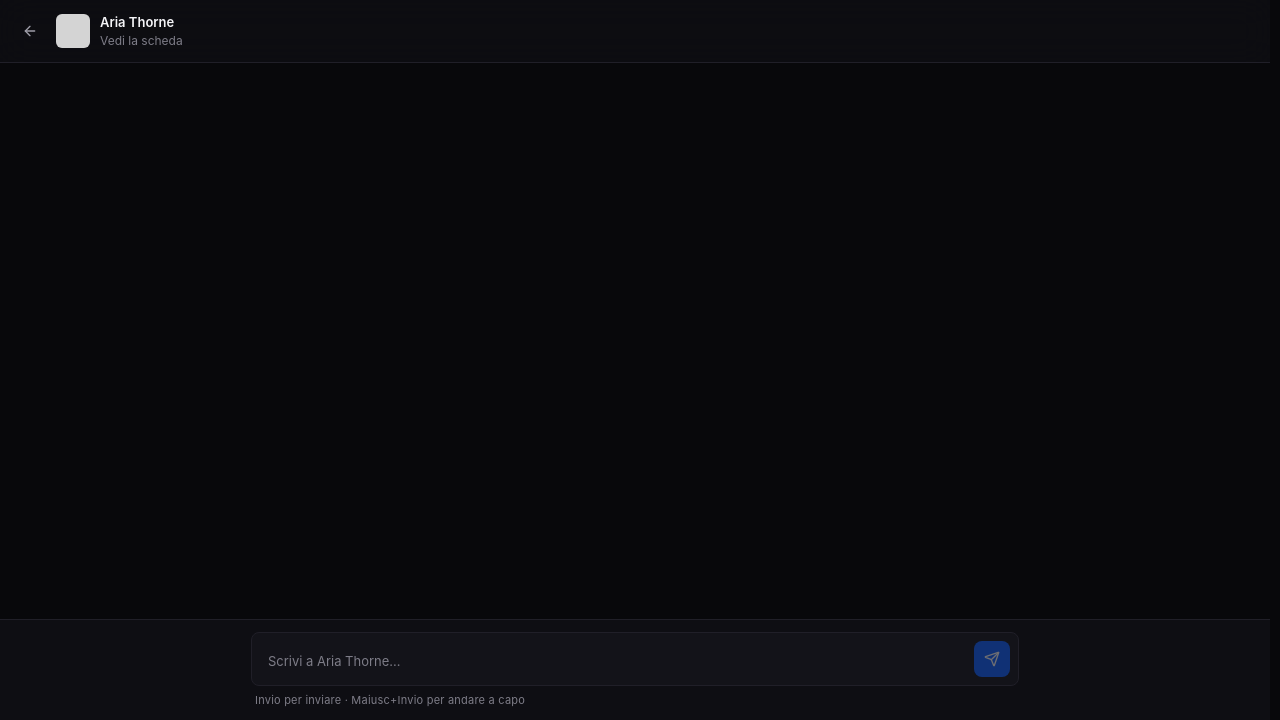
Test: ChatPage › mostra la risposta comparire a pezzi mentre arriva (S3-13)
The image size is (1280, 720).
Type "Ciao" into the text box with placeholder "Scrivi a Aria Thorne…" at coordinates (613, 661), box x1=260 y1=645 x2=966 y2=677
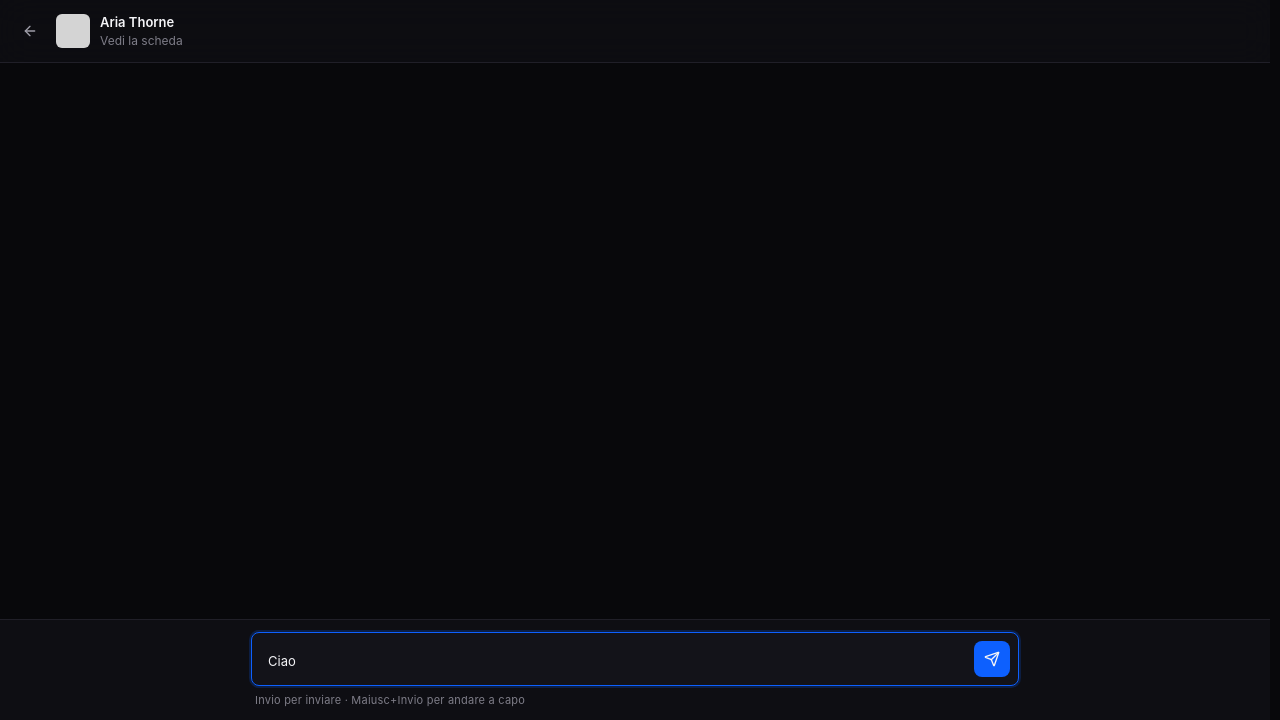
Click the button named "invia" at coordinates (992, 659), box x1=974 y1=641 x2=1010 y2=677
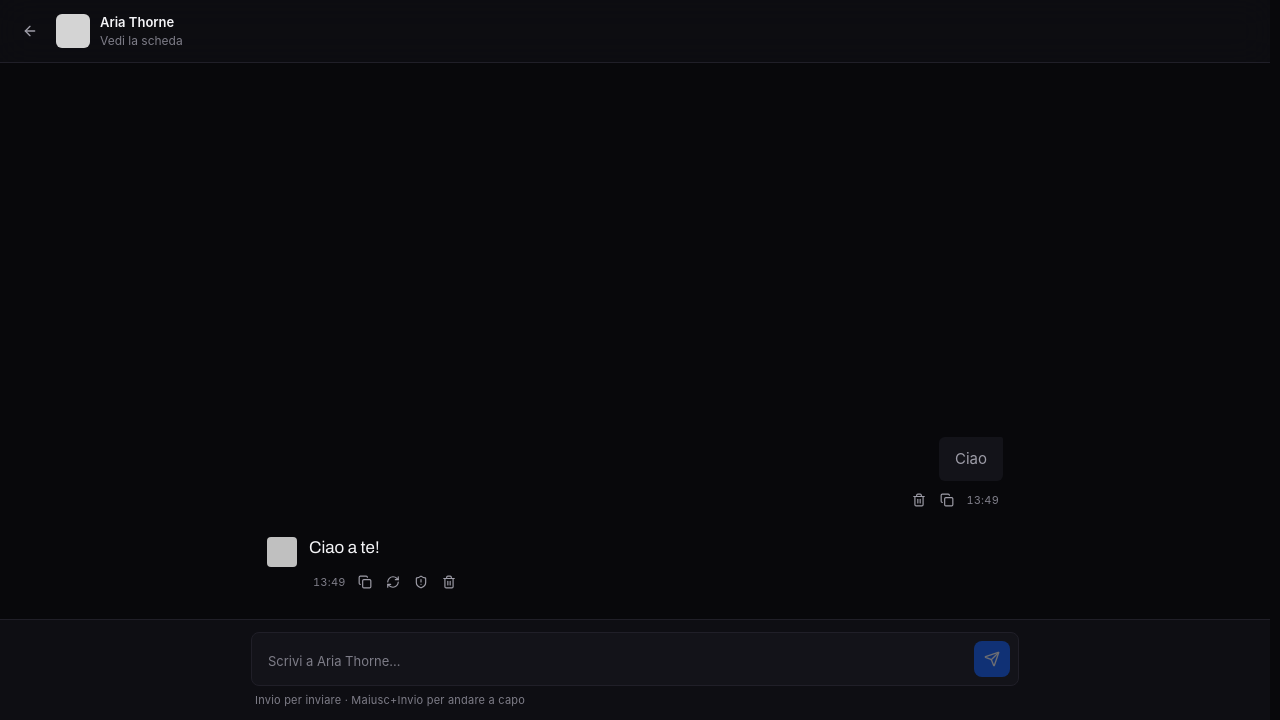
expect the text "Ciao a te!" is shown: met, box x1=309 y1=538 x2=380 y2=557
